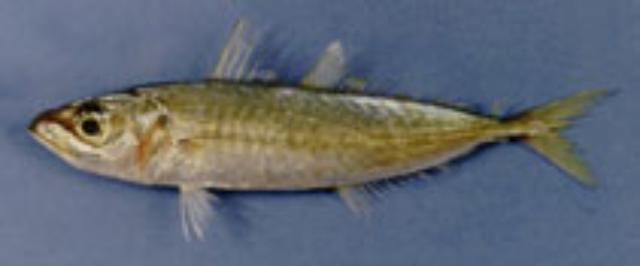Mulut: (22, 110, 76, 170)
Sirip Anal: (338, 142, 470, 236)
Sirip Ekor: (515, 62, 627, 202)
Sirip Perut: (174, 174, 256, 247)
Sirip Punggung: (198, 14, 404, 108)
